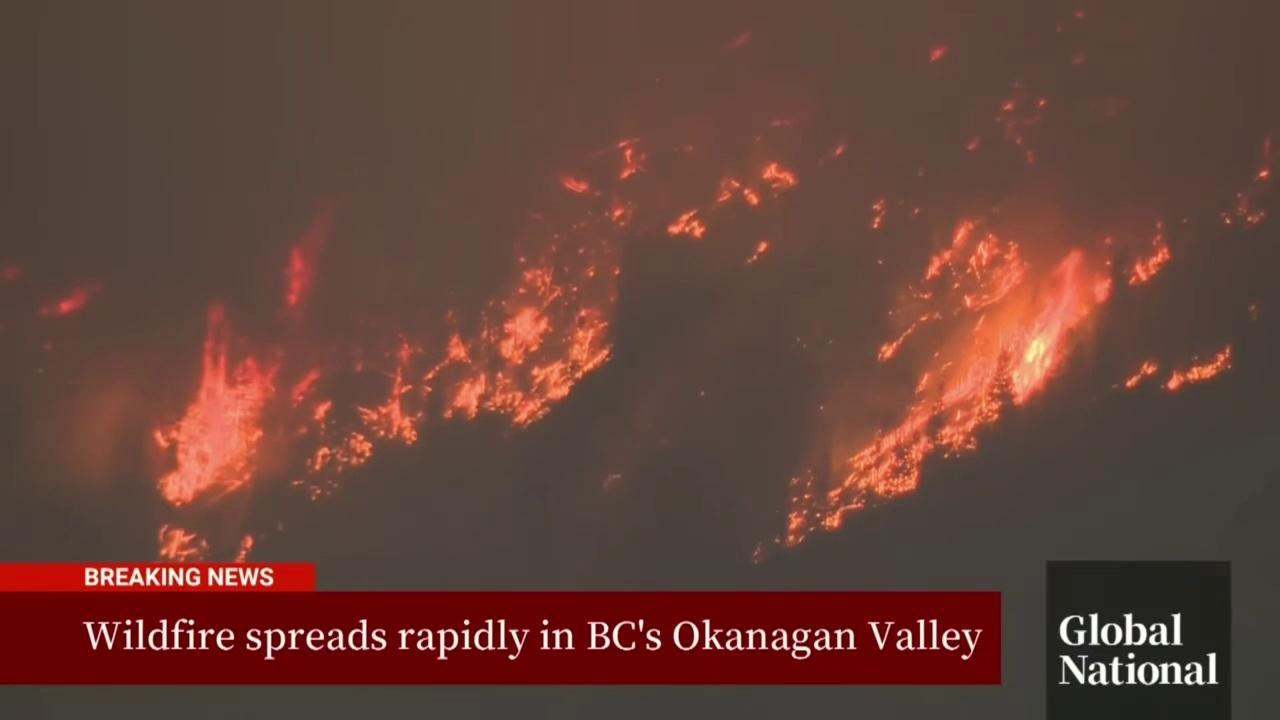fire: (778, 221, 1116, 552), (421, 137, 646, 430), (149, 302, 290, 510), (353, 334, 421, 452), (275, 193, 334, 312), (993, 94, 1052, 166), (1122, 217, 1173, 294), (1165, 344, 1233, 393), (304, 428, 375, 474), (29, 277, 103, 319), (153, 523, 219, 564), (717, 176, 760, 213), (760, 160, 800, 199), (665, 205, 706, 240), (1236, 192, 1271, 228), (289, 366, 320, 406), (1126, 355, 1157, 393), (233, 535, 256, 569), (745, 239, 769, 266), (311, 399, 335, 424), (927, 44, 950, 64), (872, 198, 886, 230), (1258, 165, 1273, 181), (834, 141, 848, 158), (966, 136, 980, 153), (1221, 210, 1232, 227)
smoke: (0, 0, 1280, 569)
